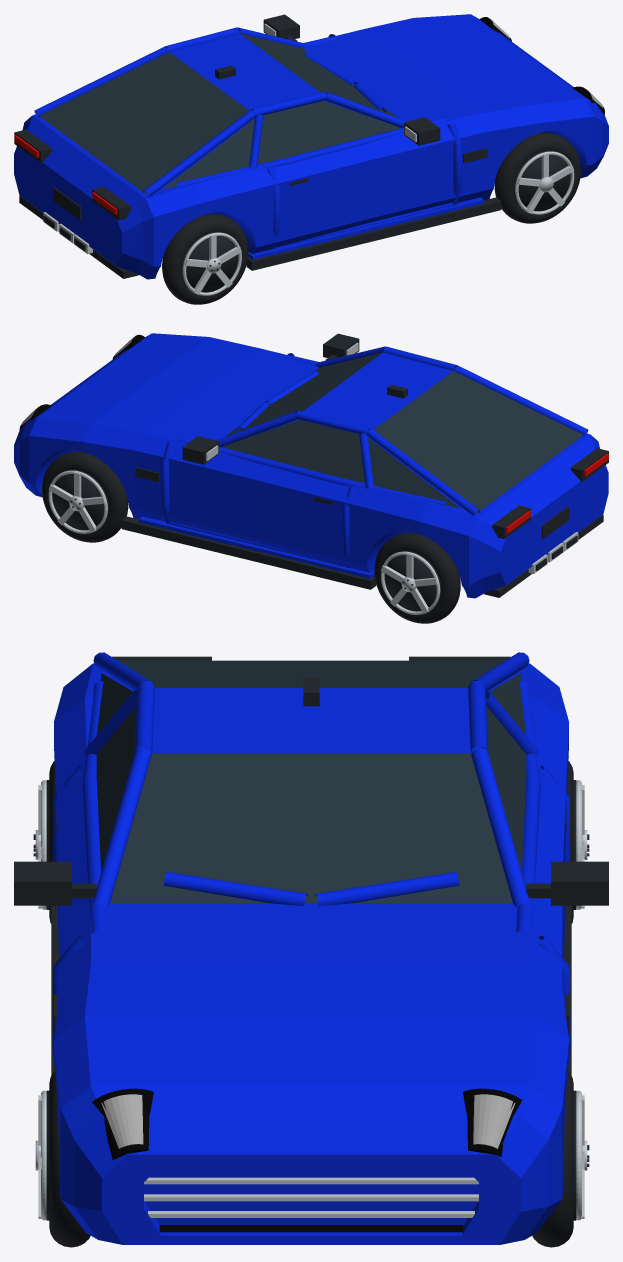
File: riv2.glb
3 renders of one model, top to bottom at view 1: azimuth 30°, elevation 25°; view 2: azimuth 150°, elevation 25°; view 3: azimuth 270°, elevation 25°, orthographic. The views are drawn at different scales.
Parts seen in each view (by area): view 1: 跑車; view 2: 跑車; view 3: 跑車.
Boxes of the visible parts, x1,y1,x2,y2 form: 跑車: (14, 14, 608, 304); 跑車: (14, 333, 608, 623); 跑車: (14, 652, 608, 1247).
Bounding box in the file's own units: 4.13 × 1.35 × 2.27.
